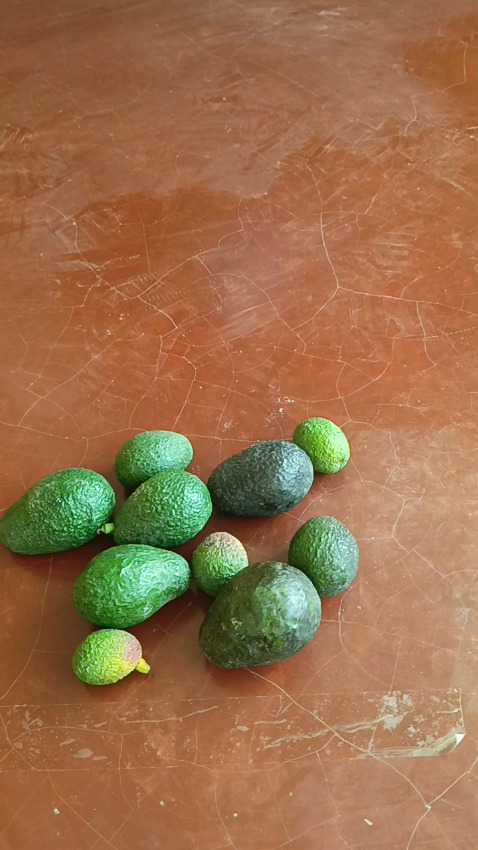Primera: (198, 561, 321, 666), (72, 542, 193, 629), (0, 467, 115, 554), (206, 440, 314, 516), (111, 469, 212, 548)
Segunda: (288, 515, 359, 597), (114, 430, 194, 488)
Tercera: (72, 627, 143, 684), (191, 531, 249, 596), (291, 417, 349, 473)
